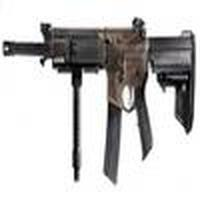gun: (3, 22, 200, 124)
